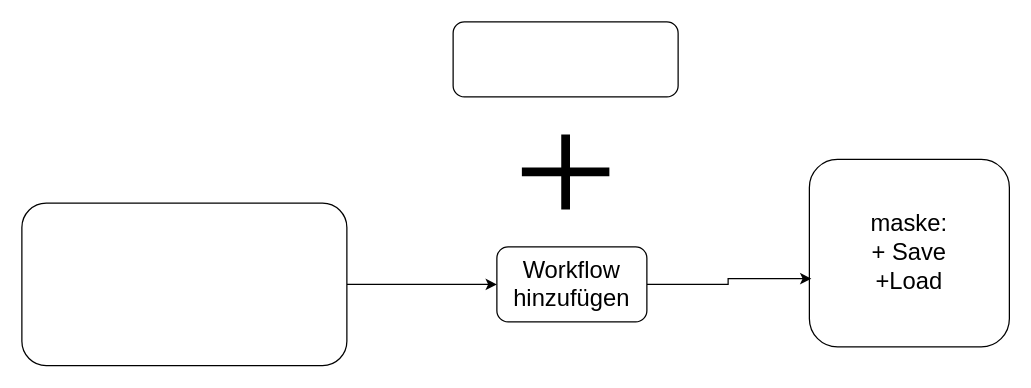
Some shapes in this 1031 by 388 pixel diagram are drawn without their labels. The shapes that lost their labels are listed below. From the top down, each one's centre as x and y in pixels, then its label:
At pixel 565 59: "DS Configuration".
At pixel 184 284: "EDIB Workflow System Standard".
